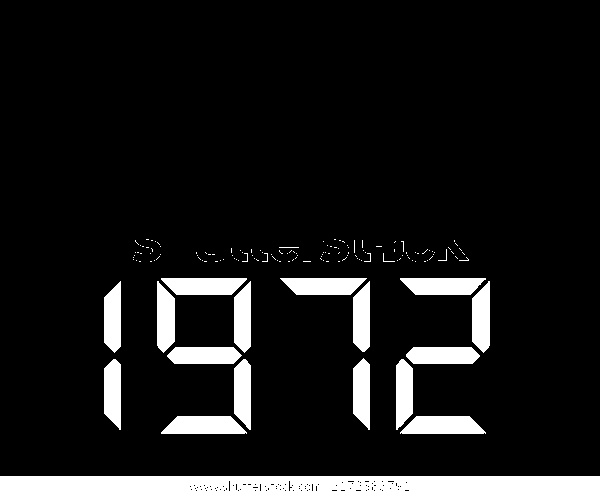nine: (155, 278, 252, 434)
one: (101, 281, 121, 429)
seven: (279, 276, 370, 433)
two: (397, 277, 490, 434)
